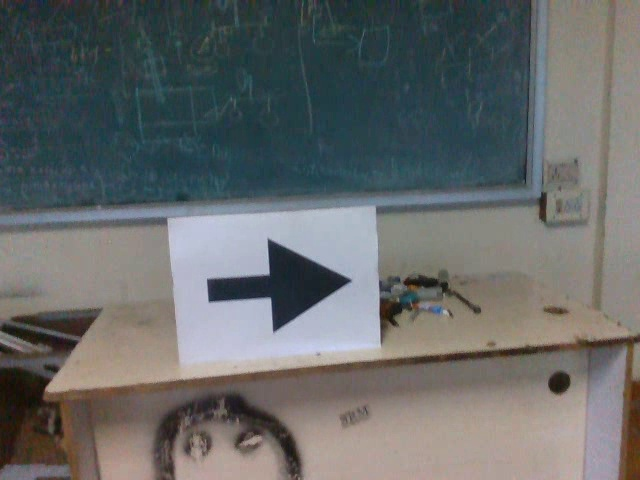Right: (201, 234, 357, 337)
